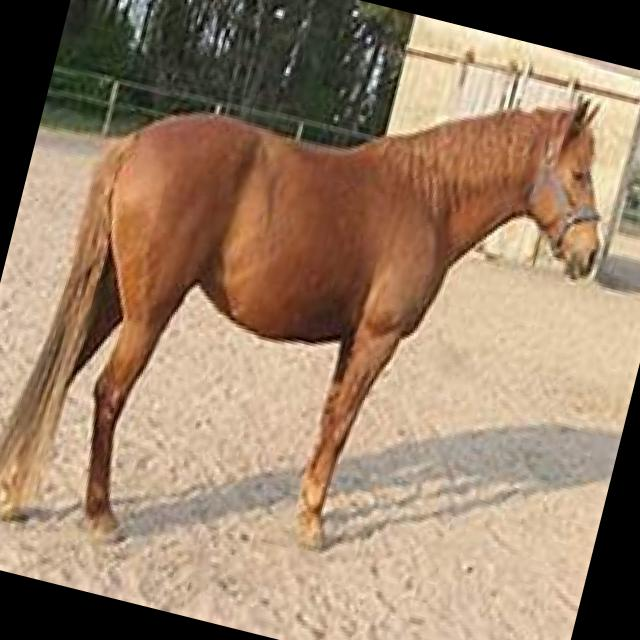animal: (0, 0, 637, 640)
